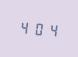four: (18, 18, 30, 36), (45, 20, 57, 38)
zero: (32, 19, 44, 37)
